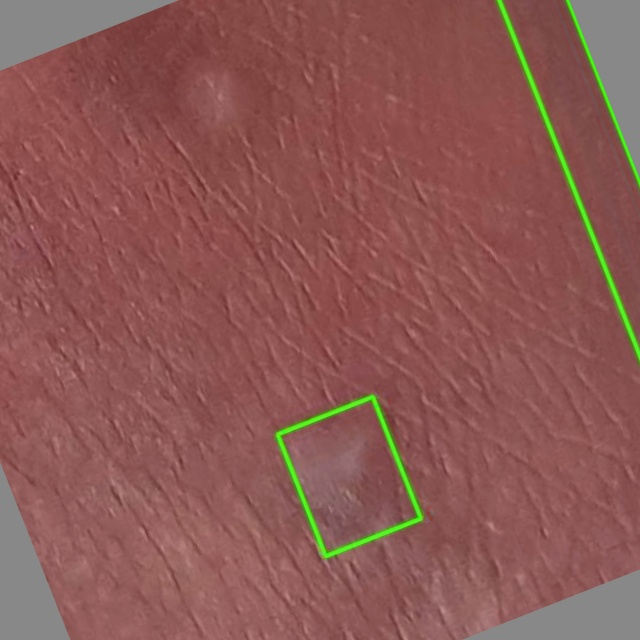Eczema: (277, 396, 420, 556)
